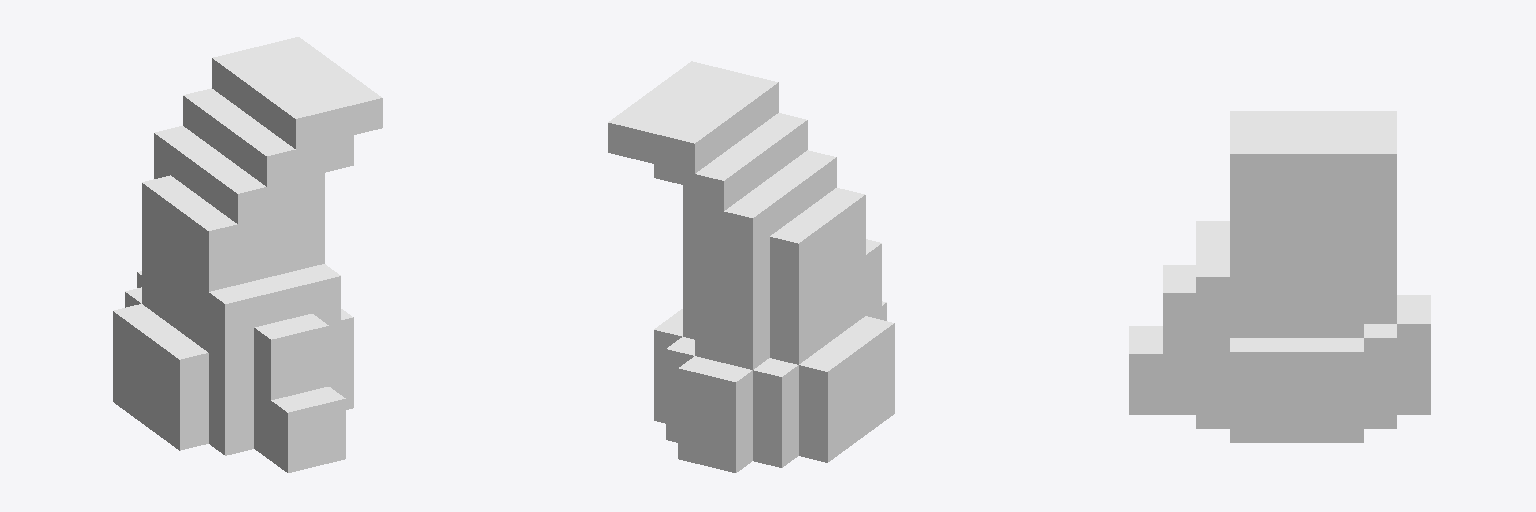
File: Prototype_boss_animation-3.obj
3 views of the same model, side by side, from view 1: azimuth 30°, elevation 25°; view 2: azimuth 150°, elevation 25°; view 3: azimuth 270°, elevation 25° (orthographic).
Parts seen in each view (by area): view 1: object 1; view 2: object 1; view 3: object 1.
Part boxes in pixels (x1,y1,x2,y2): object 1: (113,37,382,472); object 1: (608,61,894,472); object 1: (1129,111,1430,442).
Bounding box in the file's own units: 0.7 × 1 × 0.9.